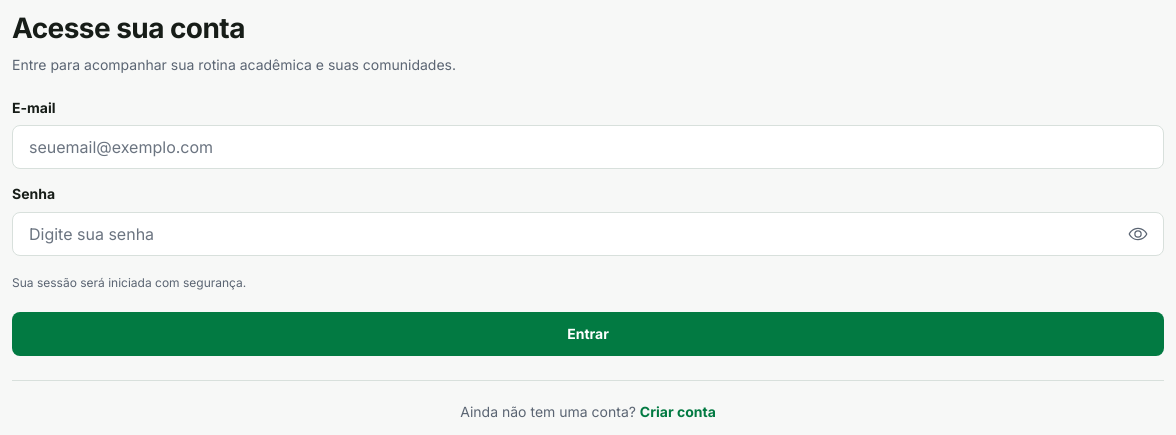
Test: LoginForm › alterna a visibilidade da senha com um controle rotulado
Click the button named "Mostrar senha" at (1138, 234), box [1116,212,1160,256]
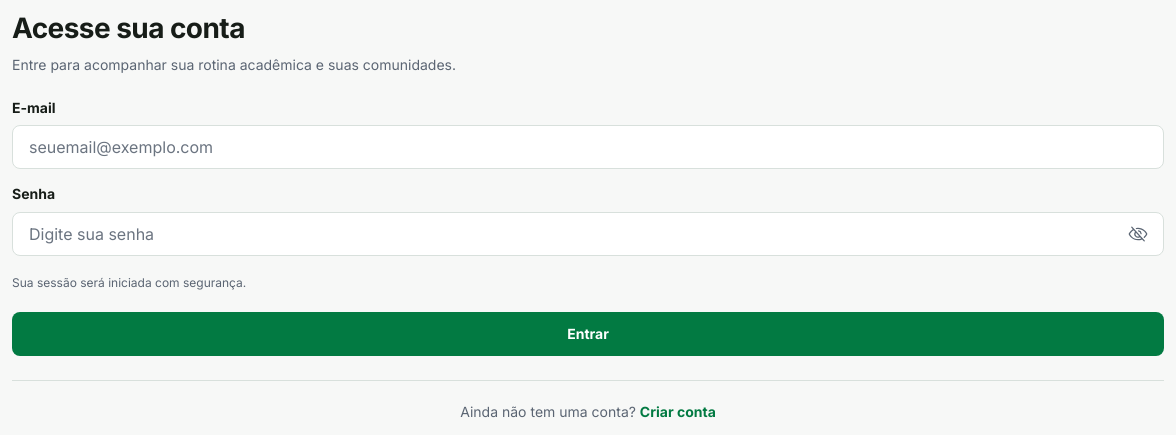
Now the button named "Ocultar senha" is shown, box [1116,212,1160,256]
